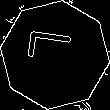L_E: (27, 36, 83, 74)
